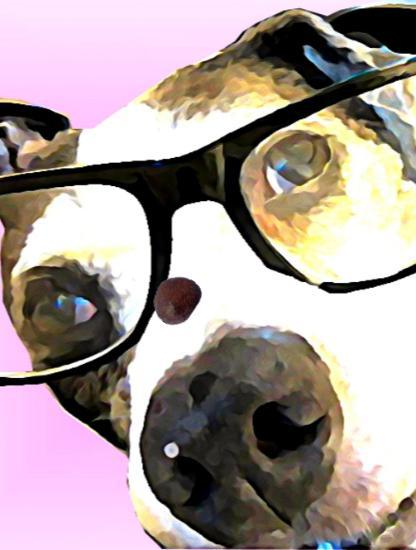Salak: (150, 274, 201, 325)
